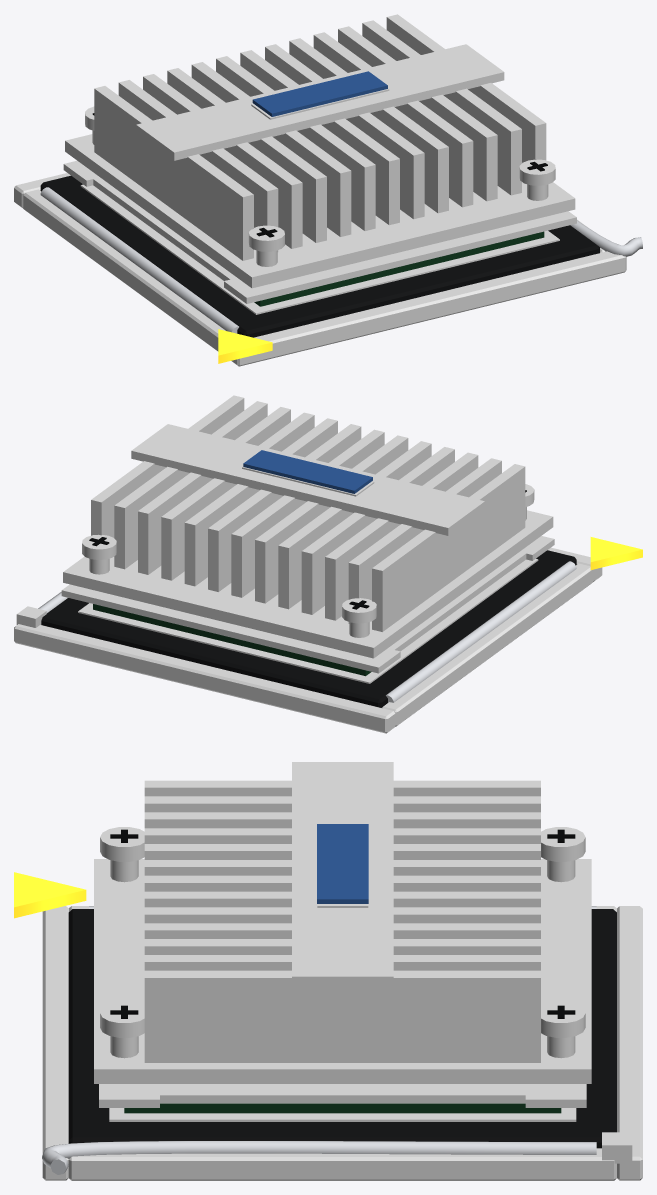
Rendered from hwm_cpu_c2q_4c.glb.
3 renders of one model, top to bottom at view 1: azimuth 30°, elevation 25°; view 2: azimuth 150°, elevation 25°; view 3: azimuth 270°, elevation 25°, orthographic. The views are drawn at different scales.
Parts seen in each view (by area): view 1: Cooler, Socket, Frame, CPU, Screw_3, Screw_1, Lever; view 2: Cooler, Socket, Frame, CPU, Screw_2, Screw_0; view 3: Cooler, Socket, Frame, Lever, CPU, Screw_1, Screw_3, Screw_0, Screw_2.
Boxes of the visible parts, x1,y1,x2,y2 form: Cooler: (65,14,575,288); Socket: (14,173,626,366); Frame: (63,160,576,303); CPU: (254,231,544,306); Screw_3: (519,159,555,200); Screw_1: (248,225,284,266); Lever: (570,220,642,256); Cooler: (63,395,553,658); Socket: (14,537,642,733); Frame: (61,536,554,673); CPU: (93,604,371,676); Screw_2: (82,534,116,574); Screw_0: (342,598,376,637); Cooler: (94,762,591,1083); Socket: (14,872,642,1180); Frame: (99,1084,586,1107); Lever: (42,1141,596,1174); CPU: (124,1103,561,1113); Screw_1: (100,827,144,882); Screw_3: (100,1003,144,1058); Screw_0: (541,827,585,882); Screw_2: (541,1003,585,1058).
Bounding box in the file's own units: 0.1338 × 0.0421 × 0.1239.
